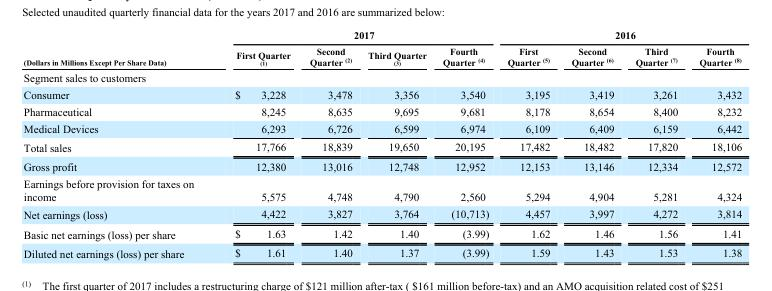table: (22, 29, 741, 259)
table column: (22, 29, 213, 259), (213, 29, 299, 259), (359, 29, 433, 259), (433, 29, 497, 259), (560, 29, 624, 259), (497, 29, 560, 259), (624, 29, 687, 259), (299, 29, 359, 259), (687, 29, 741, 259)
table column header: (22, 29, 741, 68)
table projected row header: (22, 68, 741, 85)
table row: (22, 174, 741, 204), (22, 43, 741, 68), (22, 223, 741, 243), (22, 137, 741, 156), (22, 204, 741, 223), (22, 119, 741, 137), (22, 156, 741, 174), (22, 68, 741, 85), (22, 85, 741, 102), (22, 102, 741, 119), (22, 243, 741, 259), (22, 29, 741, 43)
table spanning cell: (22, 29, 213, 68), (213, 29, 497, 43), (497, 29, 741, 43)
